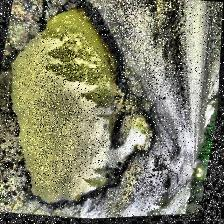pothole: (0, 0, 180, 224)
